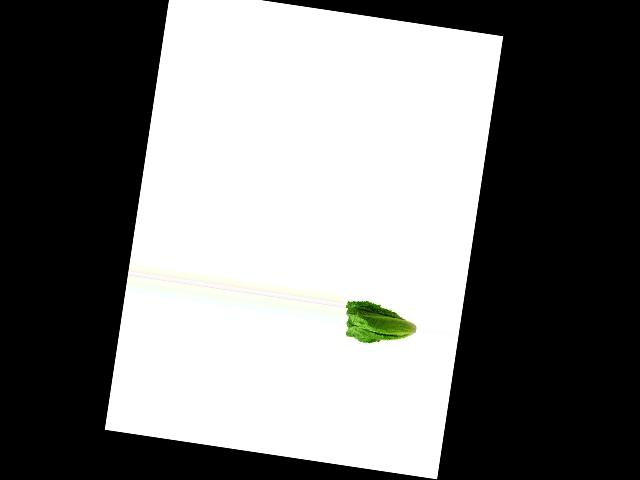lettuce: (340, 296, 419, 355)
